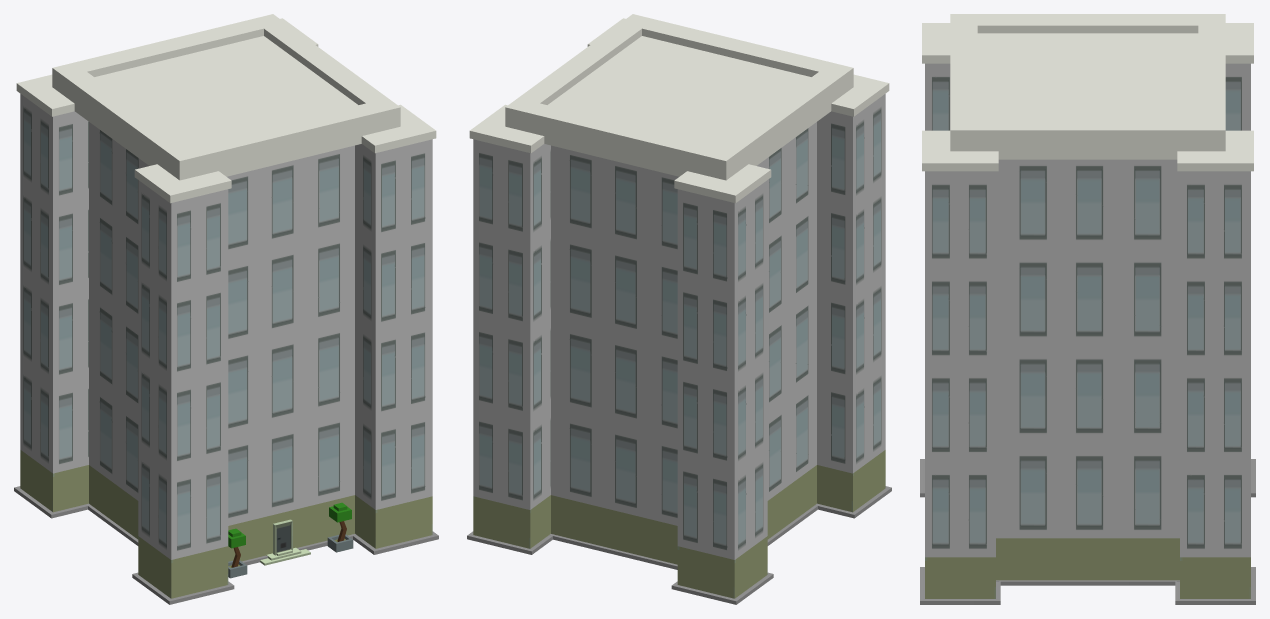
File: Corner Pilars Basic Four Floor.fbx
The picture shows the model from 3 angles, left to right: view 1: azimuth 30°, elevation 25°; view 2: azimuth 150°, elevation 25°; view 3: azimuth 270°, elevation 25°; orthographic projection. The views are drawn at different scales.
Parts seen in each view (by area): view 1: Corner Pilars Basic Four Floor; view 2: Corner Pilars Basic Four Floor; view 3: Corner Pilars Basic Four Floor.
Boxes of the visible parts, left/top/right/bottom form: Corner Pilars Basic Four Floor: left=14, top=14, right=438, bottom=604; Corner Pilars Basic Four Floor: left=467, top=14, right=891, bottom=604; Corner Pilars Basic Four Floor: left=920, top=14, right=1255, bottom=604.
Bounding box in the file's own units: 7.37 × 11.18 × 7.37.
